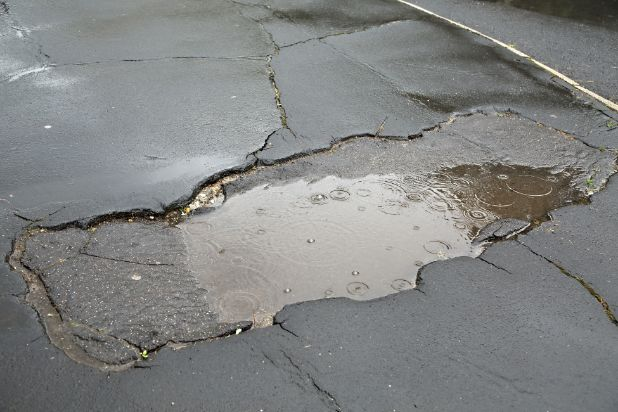pothole: (5, 109, 600, 374)
